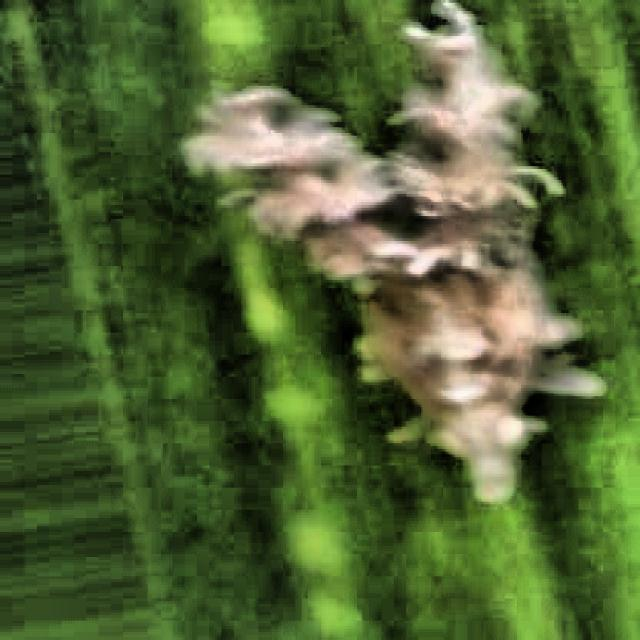Pyrilla-perpusilla: (154, 8, 619, 570)
